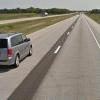Car: (1, 23, 38, 75)
